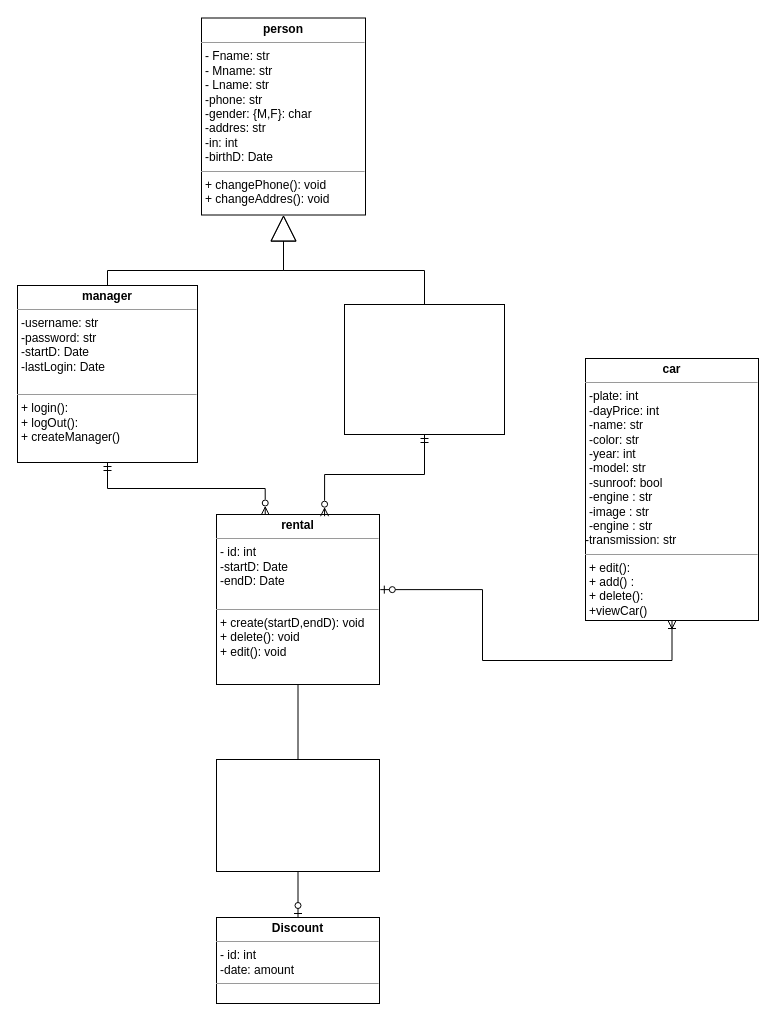
This 776x1021 diagram has some shape labels left out. The shapes that lost their labels are listed below. From the top down, each one's centre as x and y in pixels, then its label:
point (424, 369): customer - id: int -days: int + getDays(): int + setDays(): void
point (298, 815): Payment - id: int -date: Date -amount: int +chechout()
